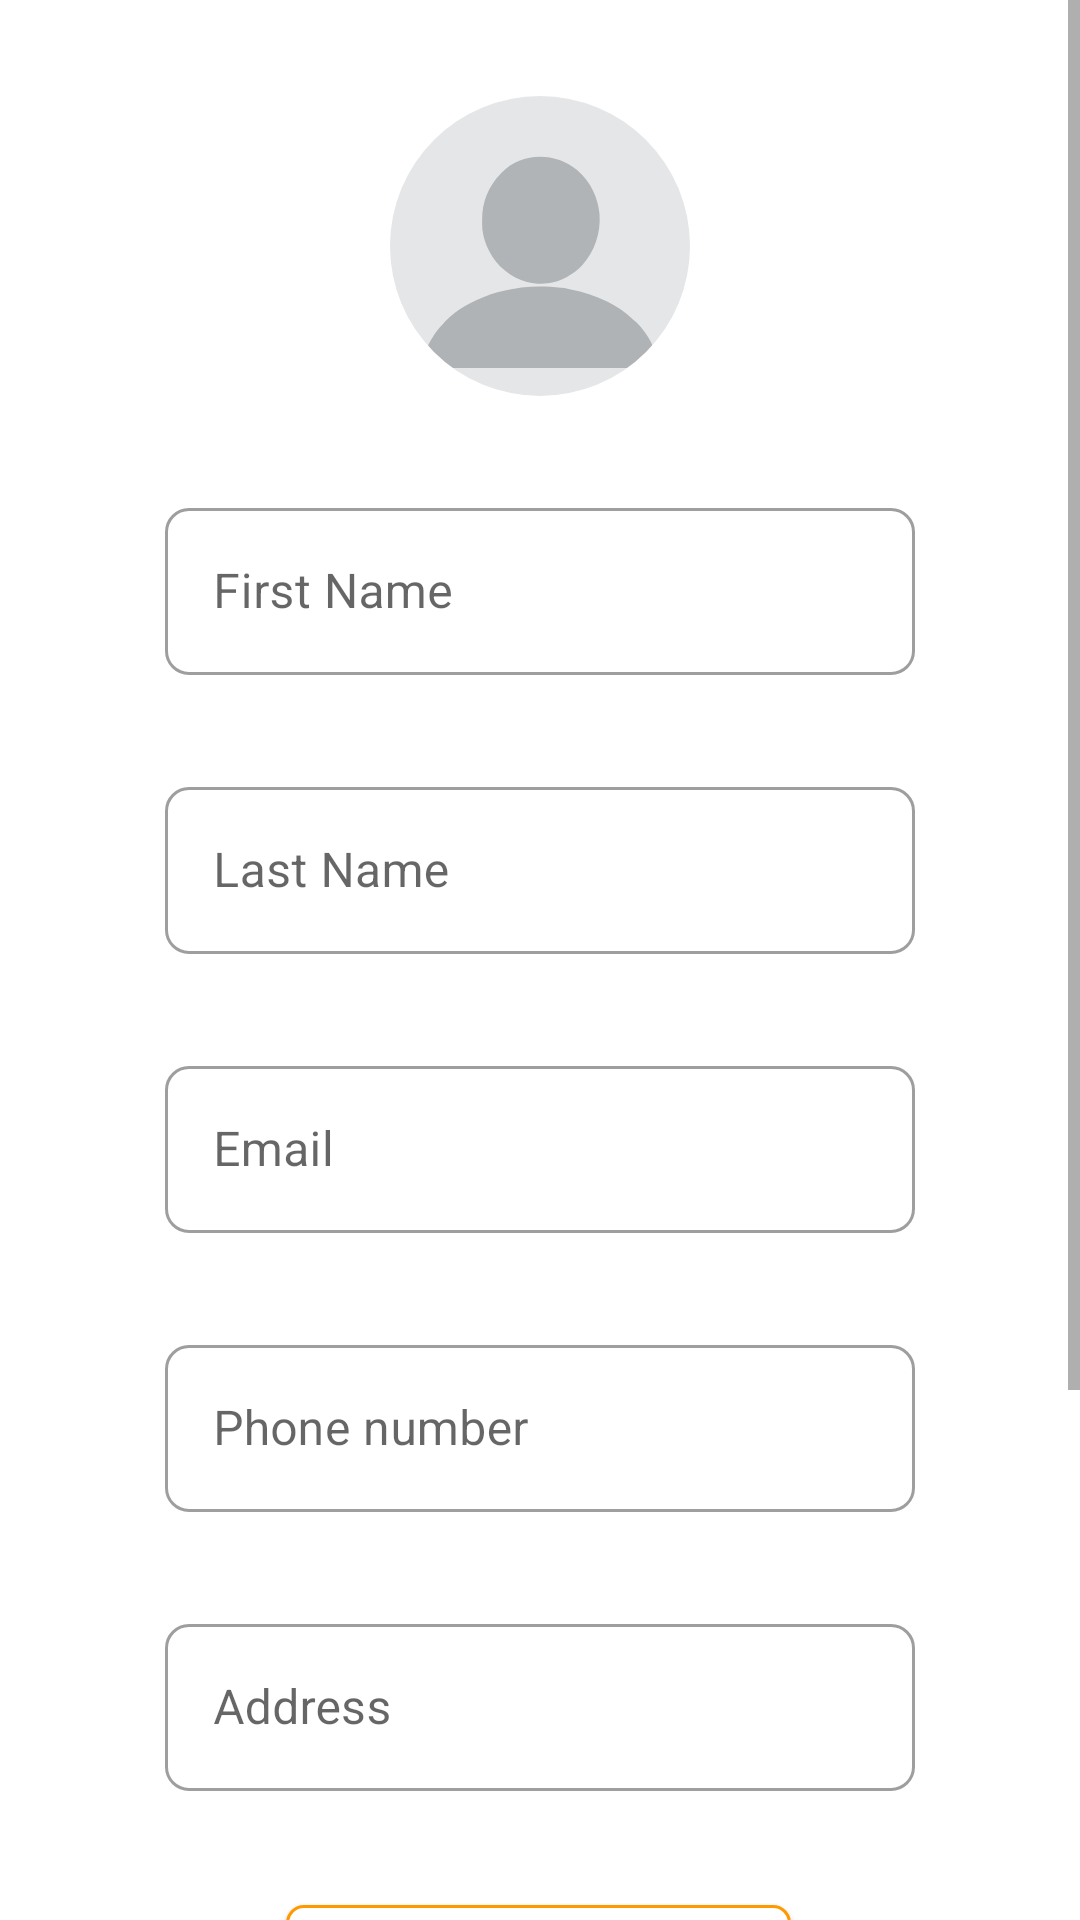

Named icons in this screenshot (1080 x 1920) and their centers, (x,y):
blank profile: (540,246)
